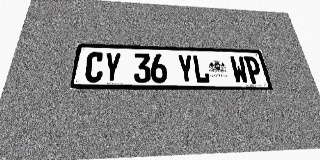3: (134, 53, 150, 83)
6: (151, 53, 167, 83)
C: (84, 52, 105, 83)
L: (192, 55, 211, 83)
P: (243, 56, 264, 84)
W: (229, 56, 249, 84)
Y: (102, 52, 121, 83), (177, 54, 195, 83)
